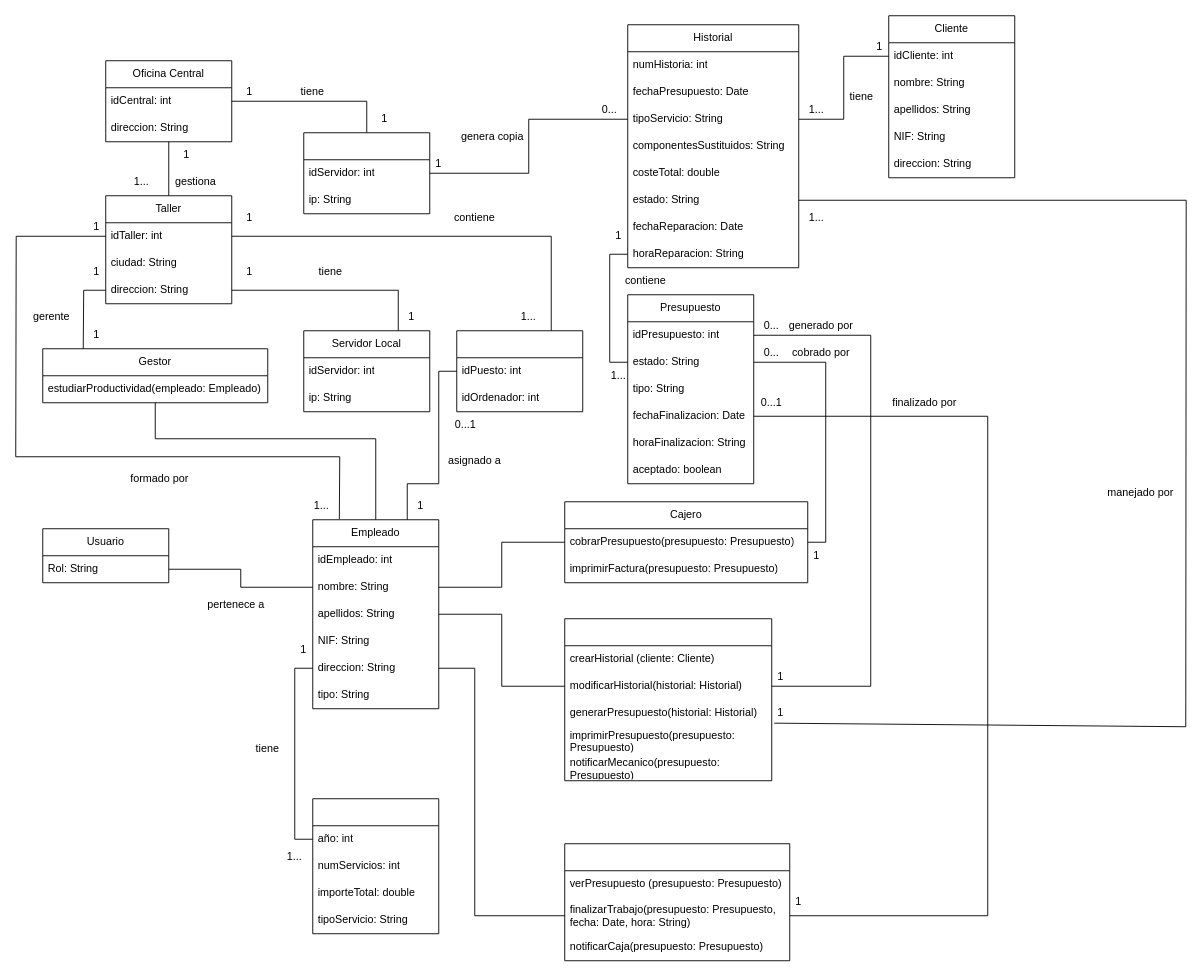
The diagram is 1203 pixels wide and 977 high, and some of its shapes have lost their labels. Here are the shapes that lost their labels. From the top down, the box of each, then its label:
(303, 132, 430, 214): Servidor Central
(456, 330, 583, 412): Puesto de Trabajo
(564, 618, 772, 781): Comercial
(312, 798, 439, 934): Ficha Productividad
(564, 843, 790, 961): Mecanico
